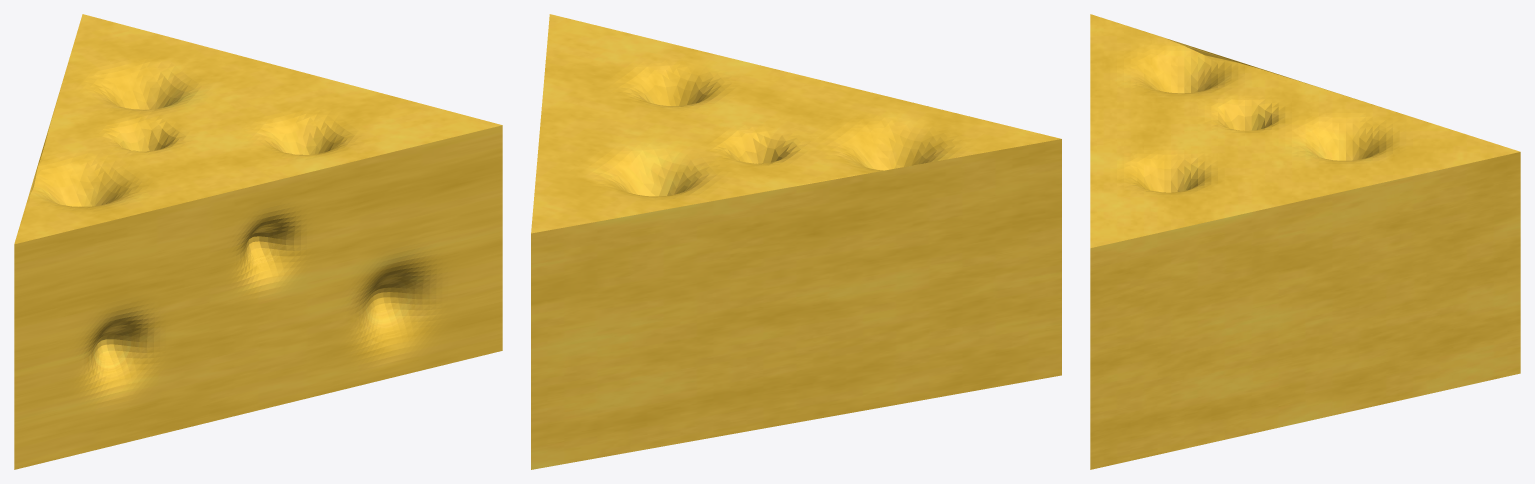
Rendered from cheese-cartoon.glb.
The picture shows the model from 3 angles, left to right: view 1: azimuth 30°, elevation 25°; view 2: azimuth 150°, elevation 25°; view 3: azimuth 270°, elevation 25°; orthographic projection. The views are drawn at different scales.
Bounding box in the file's own units: 2.3 × 1.01 × 1.79.
1 material, 1 textured.
